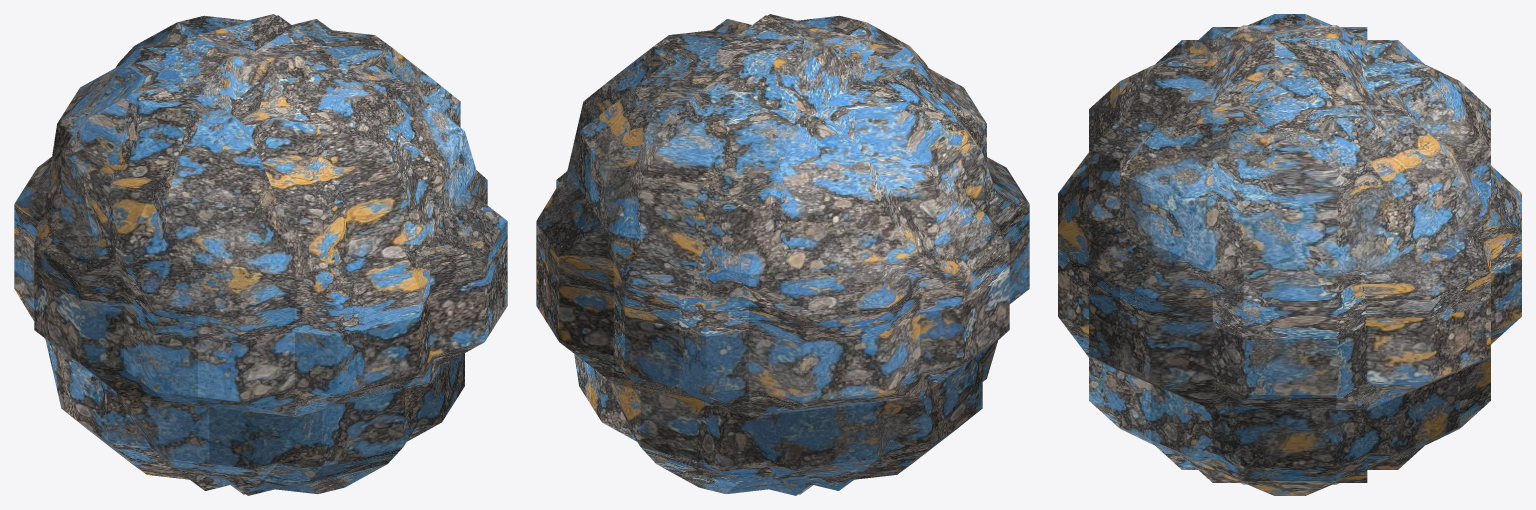
The picture shows the model from 3 angles, left to right: view 1: azimuth 30°, elevation 25°; view 2: azimuth 150°, elevation 25°; view 3: azimuth 270°, elevation 25°; orthographic projection.
Parts seen in each view (by area): view 1: Sphere; view 2: Sphere; view 3: Sphere.
Boxes of the visible parts, <box> form: Sphere: <box>14,14,507,495</box>; Sphere: <box>536,14,1029,495</box>; Sphere: <box>1058,14,1521,495</box>.
Bounding box in the file's own units: 2 × 2 × 2.
Materials: 1 (1 with a texture image).
